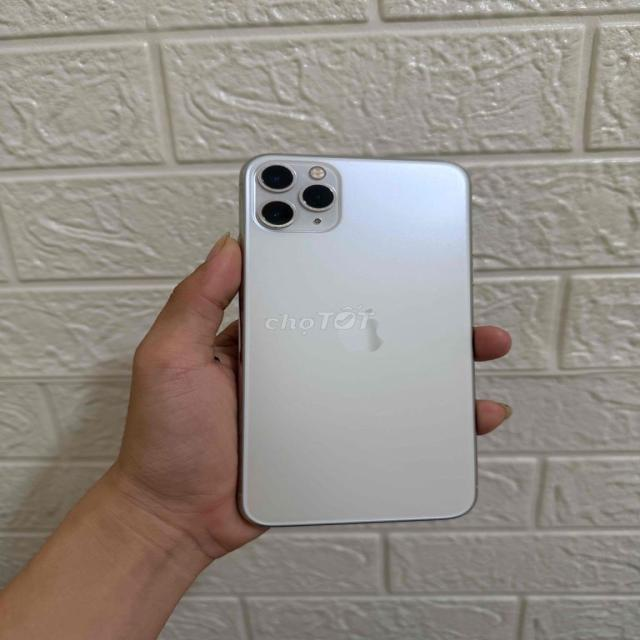gen_11: (227, 148, 490, 531)
scratch: (252, 161, 338, 230)
